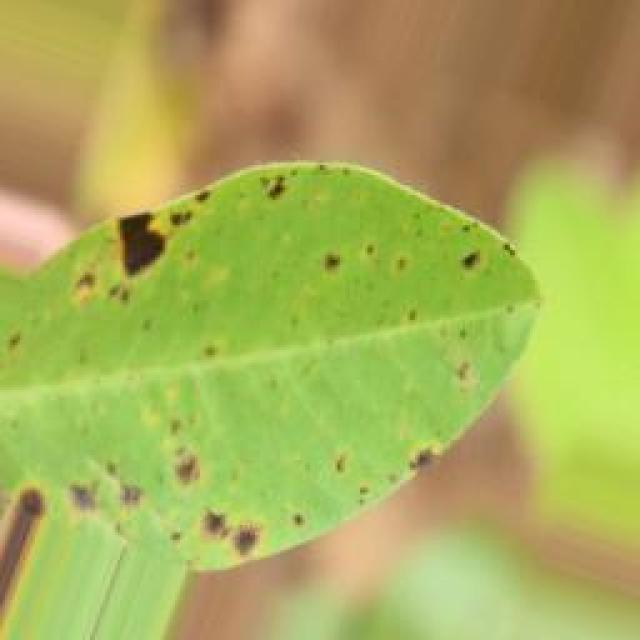Yellowish: (11, 109, 543, 636)
